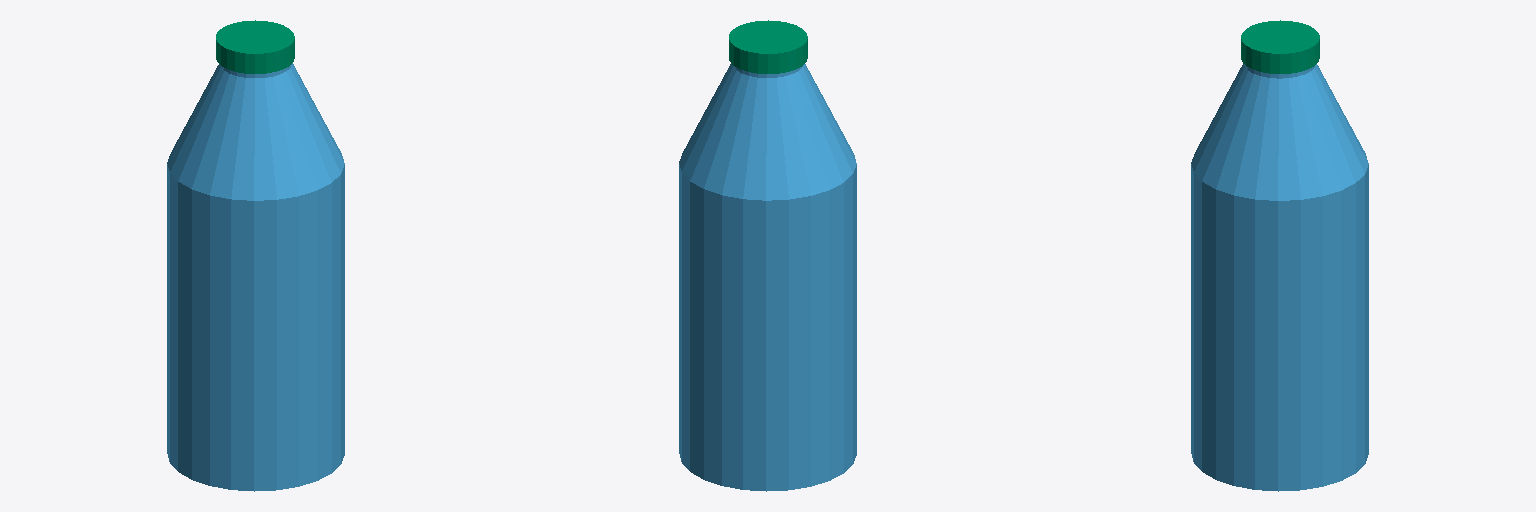
robot.urdf — partnet_4185c4eb651bd7e03c752b66cc923fdb:
<?xml version="1.0" ?>
<robot name="partnet_4185c4eb651bd7e03c752b66cc923fdb">
	<link name="base"/>
	<link name="link_0">
		<visual name="body-6">
			<origin xyz="0 0 0"/>
			<geometry>
				<mesh filename="textured_objs/new-3.obj"/>
			</geometry>
		</visual>
		<visual name="body-6">
			<origin xyz="0 0 0"/>
			<geometry>
				<mesh filename="textured_objs/new-1.obj"/>
			</geometry>
		</visual>
		<visual name="body-6">
			<origin xyz="0 0 0"/>
			<geometry>
				<mesh filename="textured_objs/new-2.obj"/>
			</geometry>
		</visual>
		<collision>
			<origin xyz="0 0 0"/>
			<geometry>
				<mesh filename="textured_objs/new-3.obj"/>
			</geometry>
		</collision>
		<collision>
			<origin xyz="0 0 0"/>
			<geometry>
				<mesh filename="textured_objs/new-1.obj"/>
			</geometry>
		</collision>
		<collision>
			<origin xyz="0 0 0"/>
			<geometry>
				<mesh filename="textured_objs/new-2.obj"/>
			</geometry>
		</collision>
	</link>
	<joint name="joint_0" type="fixed">
		<origin rpy="1.570796326794897 0 -1.570796326794897" xyz="0 0 0"/>
		<child link="link_0"/>
		<parent link="base"/>
	</joint>
	<link name="link_1">
		<visual name="lid-7">
			<origin xyz="0.011177317945073057 0 0.007005682054926923"/>
			<geometry>
				<mesh filename="textured_objs/original-2.obj"/>
			</geometry>
		</visual>
		<collision>
			<origin xyz="0.011177317945073057 0 0.007005682054926923"/>
			<geometry>
				<mesh filename="textured_objs/original-2.obj"/>
			</geometry>
		</collision>
	</link>
	<joint name="joint_1" type="continuous">
		<origin xyz="0.0 0 0.0"/>
		<axis xyz="0 -1 0"/>
		<child link="link_1"/>
		<parent link="link_1_helper"/>
	</joint>
	<link name="link_1_helper"/>
	<joint name="joint_2" type="prismatic">
		<origin xyz="-0.011177317945073057 0 -0.007005682054926923"/>
		<axis xyz="0 1 0"/>
		<child link="link_1_helper"/>
		<parent link="link_0"/>
		<limit lower="-0.016000000000000014" upper="0.05600000000000005"/>
	</joint>
</robot>

--- What the picture shows (computed from the rendered views, not written in the file) ---
3 views of the same robot in one strip: view 1: azimuth 30°, elevation 25°; view 2: azimuth 150°, elevation 25°; view 3: azimuth 270°, elevation 25° (orthographic).
Robot: partnet_4185c4eb651bd7e03c752b66cc923fdb — 4 links, 3 joints (1 continuous, 1 prismatic, 1 fixed); root link base; default pose: all joints at 0.
Links seen in each view (by area): view 1: link_0, link_1; view 2: link_0, link_1; view 3: link_0, link_1.
Boxes of the visible links, x1=… form: link_0: x1=167, y1=63, x2=344, y2=491; link_1: x1=216, y1=20, x2=294, y2=73; link_0: x1=679, y1=63, x2=856, y2=491; link_1: x1=729, y1=20, x2=807, y2=73; link_0: x1=1191, y1=63, x2=1368, y2=491; link_1: x1=1241, y1=20, x2=1319, y2=73.
Bounding box of the posed robot: 0.692 × 0.692 × 1.79 m (x, y, z).
Meshes: 4 distinct files referenced, 4 mesh visuals loaded (4 OBJ).
